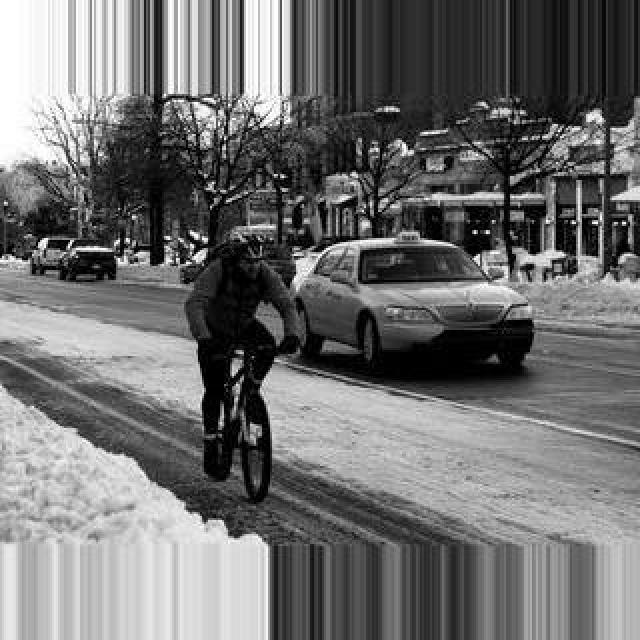Bus-Bike: (292, 236, 534, 378), (60, 240, 118, 282), (30, 236, 74, 278)
MC-Bike: (184, 234, 304, 492)
Person: (200, 338, 282, 504)
